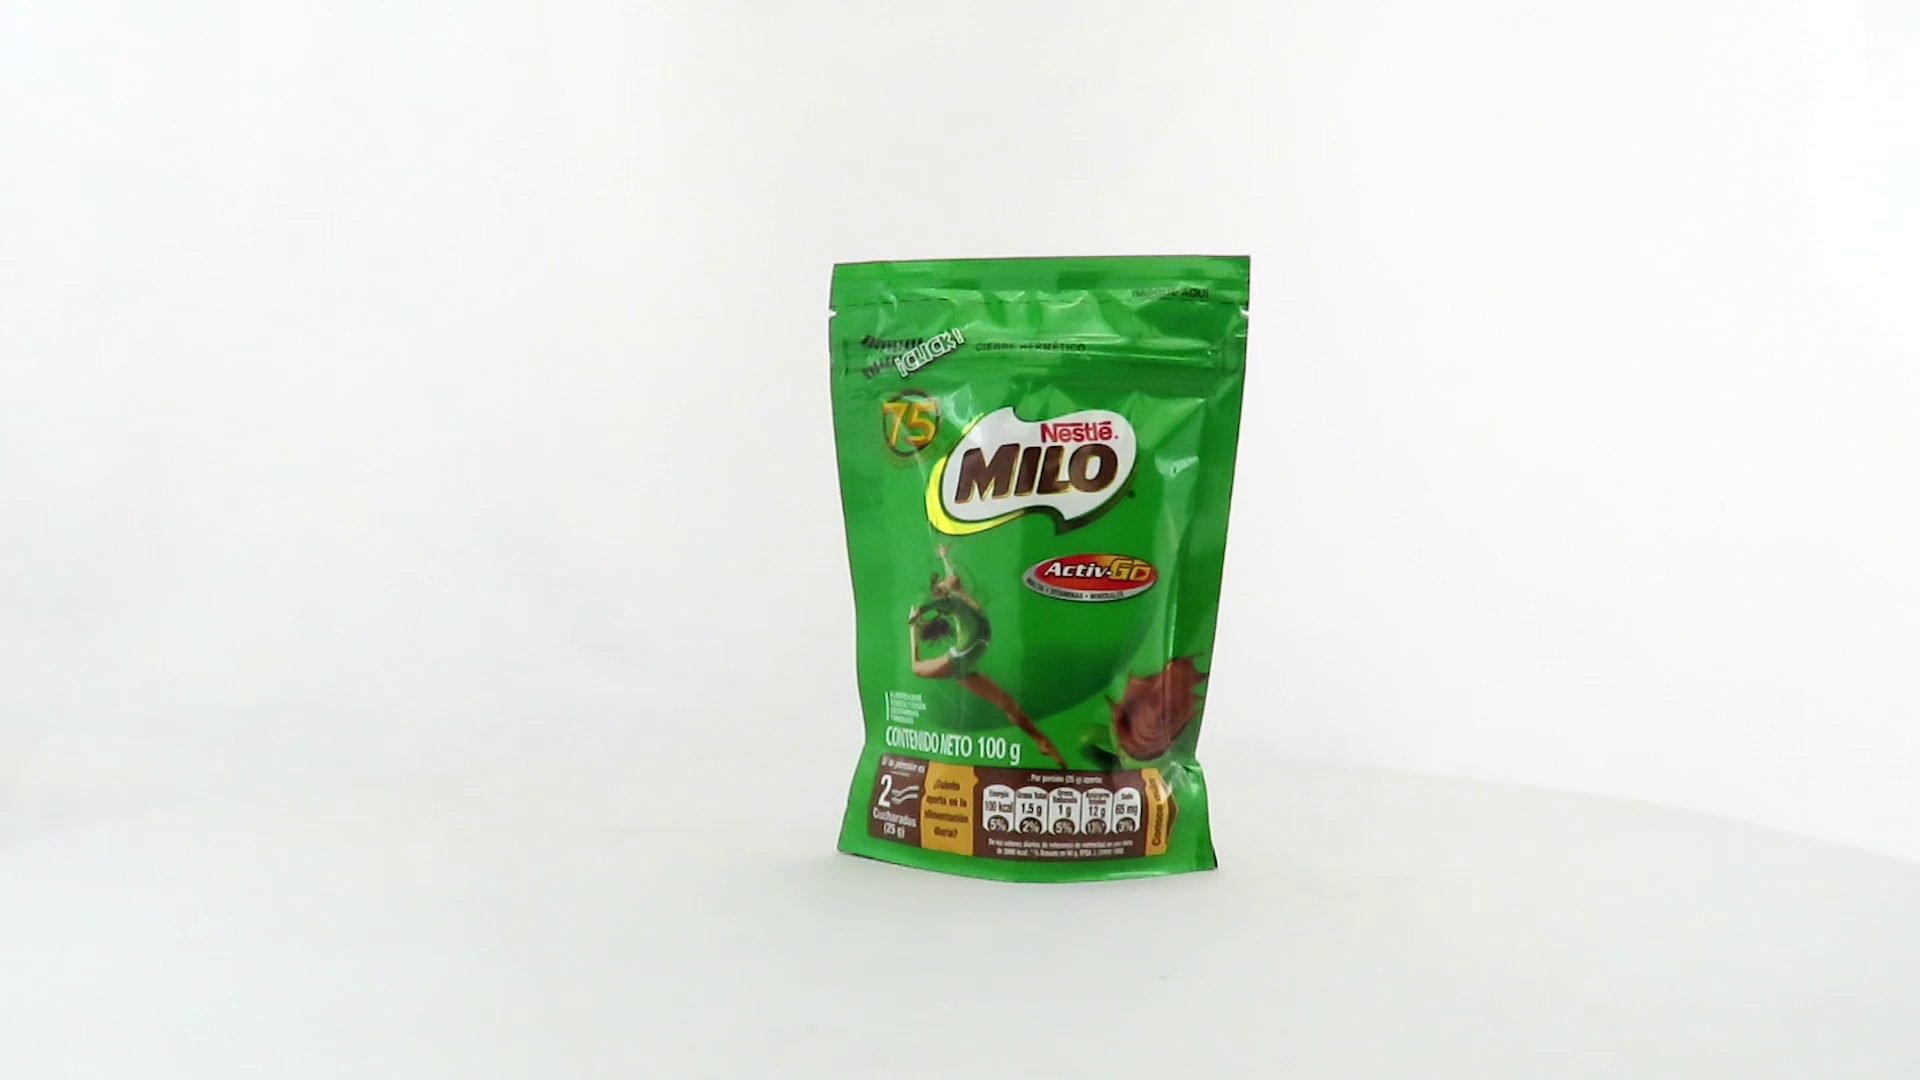COL0170203DYP10000: (823, 249, 1257, 890)
